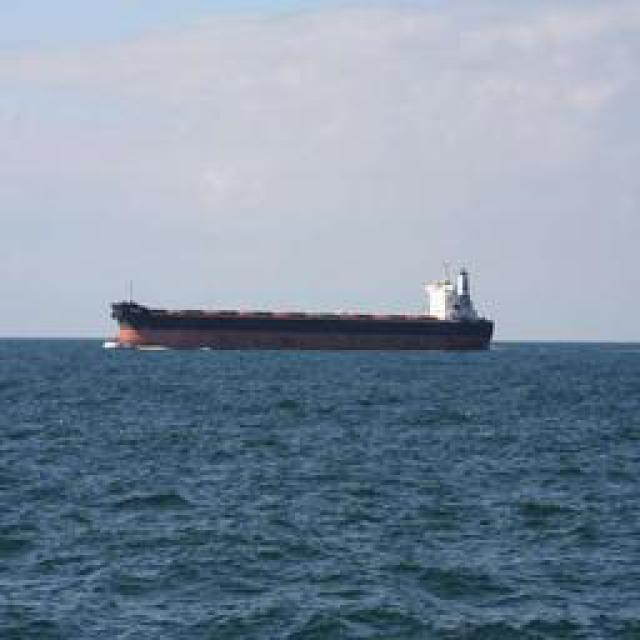Ship: (107, 269, 495, 354)
